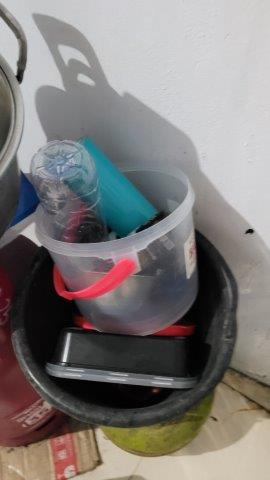botolplastik: (30, 138, 105, 271)
